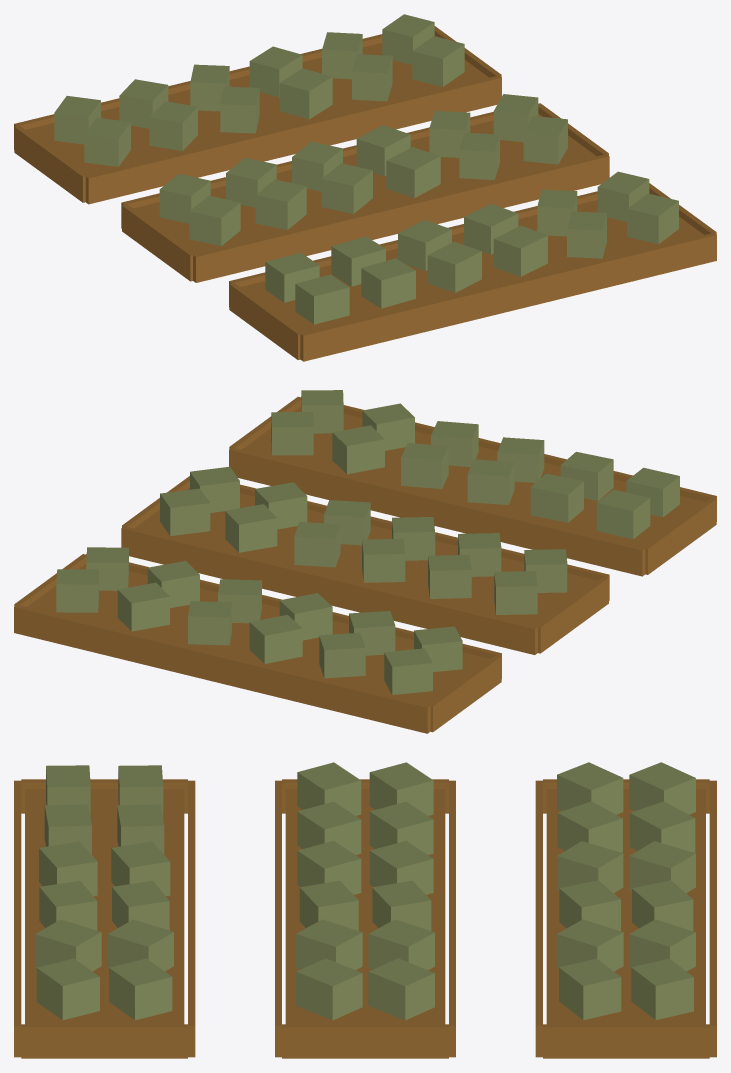
File: SM_Bancales_v0_Plantas_LOD0.fbx
The picture shows the model from 3 angles, top to bottom: view 1: azimuth 30°, elevation 25°; view 2: azimuth 150°, elevation 25°; view 3: azimuth 270°, elevation 25°; orthographic projection. The views are drawn at different scales.
Parts seen in each view (by area): view 1: SM_vida_fuerte_v10_LOD0; view 2: SM_vida_fuerte_v10_LOD0; view 3: SM_vida_fuerte_v10_LOD0.
Boxes of the visible parts, x1,y1,x2,y2 form: SM_vida_fuerte_v10_LOD0: (14, 14, 716, 361); SM_vida_fuerte_v10_LOD0: (14, 390, 716, 733); SM_vida_fuerte_v10_LOD0: (14, 762, 716, 1058).
Size of the model in its own units: 4.05 by 0.46 by 4.85.
